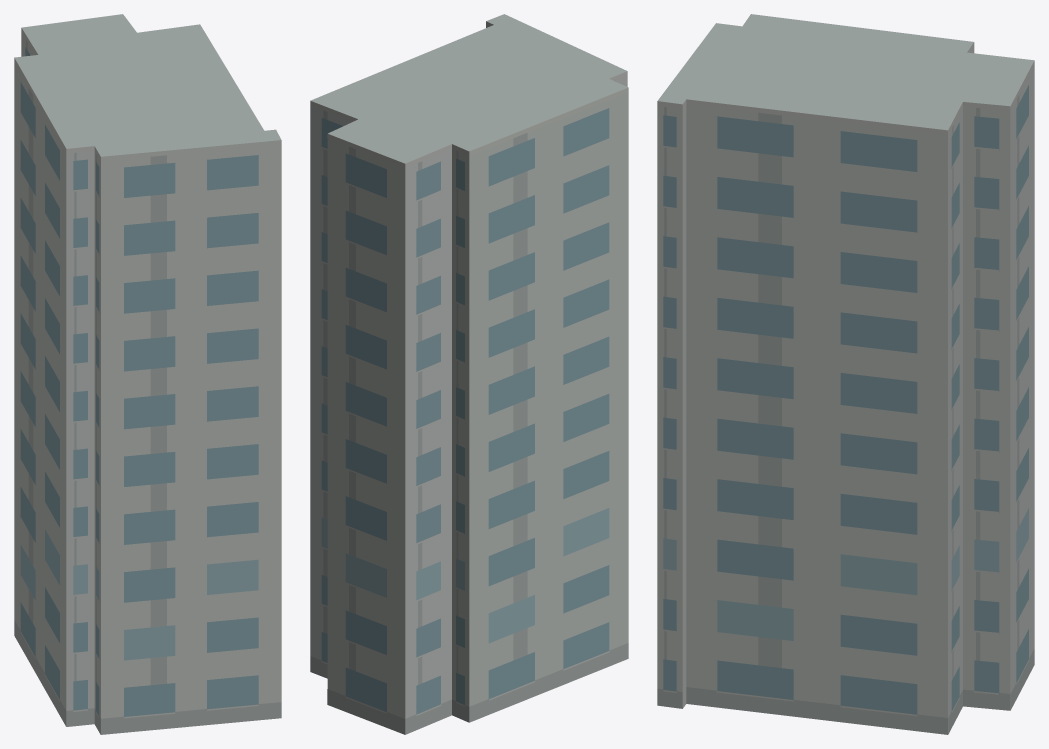
File: residential-12770803-3bef-4de4-9517-18ea68a41025.glb
3 renders of one model, left to right at view 1: azimuth 30°, elevation 25°; view 2: azimuth 150°, elevation 25°; view 3: azimuth 270°, elevation 25°, orthographic. The views are drawn at different scales.
Parts seen in each view (by area): view 1: residential-12770803-3bef-4de4-9517-18ea68a41025.tmp; view 2: residential-12770803-3bef-4de4-9517-18ea68a41025.tmp; view 3: residential-12770803-3bef-4de4-9517-18ea68a41025.tmp.
Part boxes in pixels (x1,y1,x2,y2): residential-12770803-3bef-4de4-9517-18ea68a41025.tmp: (14, 14, 281, 734); residential-12770803-3bef-4de4-9517-18ea68a41025.tmp: (310, 14, 628, 734); residential-12770803-3bef-4de4-9517-18ea68a41025.tmp: (657, 14, 1034, 734).
Size of the model in its own units: 12.6 by 30.5 by 17.25.
